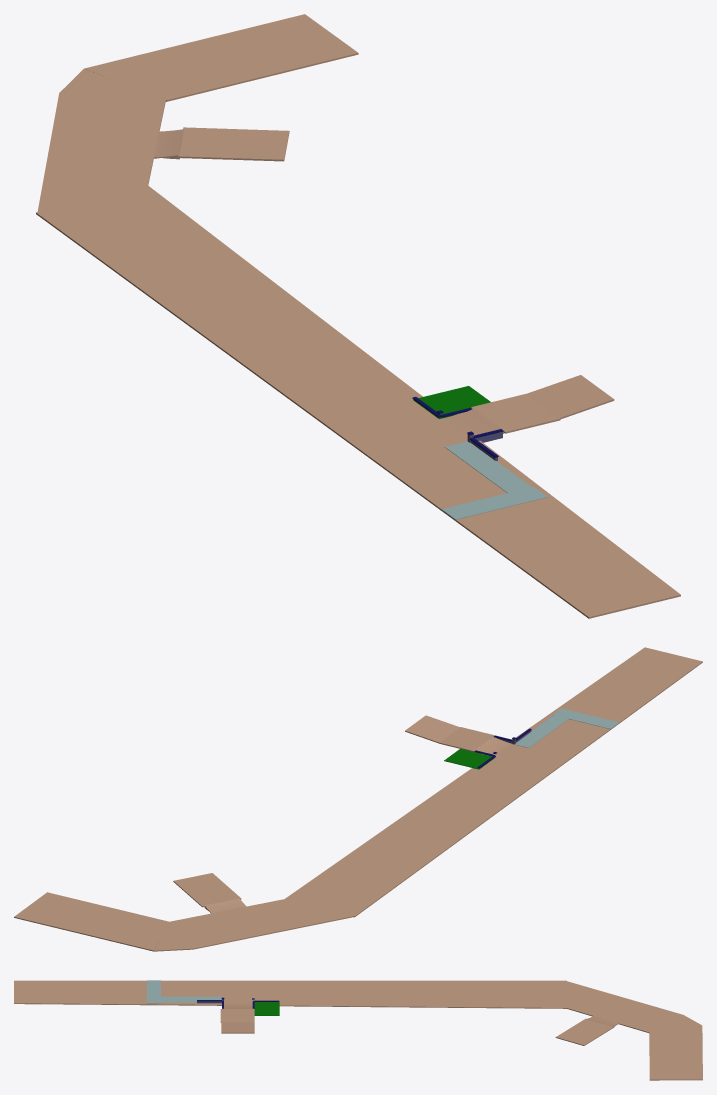
The model's file is RoadBlockout.FBX.
The picture shows the model from 3 angles, top to bottom: view 1: azimuth 30°, elevation 25°; view 2: azimuth 150°, elevation 25°; view 3: azimuth 270°, elevation 25°; orthographic projection. The views are drawn at different scales.
Parts seen in each view (by area): view 1: Box791, Box1912, Box1910, Box2003, Box544, Box641, Box219, Box220, Box210; view 2: Box791, Box1912, Box1910, Box2003, Box544, Box641, Box219, Box210, Box220; view 3: Box791, Box1912, Box1910, Box2003, Box641, Box544, Box210, Box219, Box220.
Boxes of the visible parts, bbox=[...] form: Box791: bbox=[36, 185, 680, 618]; Box1912: bbox=[37, 69, 165, 211]; Box1910: bbox=[84, 14, 358, 101]; Box2003: bbox=[178, 127, 289, 161]; Box544: bbox=[526, 375, 614, 418]; Box641: bbox=[471, 394, 560, 433]; Box219: bbox=[445, 441, 531, 492]; Box220: bbox=[441, 487, 547, 520]; Box210: bbox=[413, 386, 490, 418]; Box791: bbox=[284, 647, 702, 917]; Box1912: bbox=[154, 899, 353, 951]; Box1910: bbox=[14, 892, 168, 951]; Box2003: bbox=[173, 873, 241, 907]; Box544: bbox=[405, 715, 459, 743]; Box641: bbox=[439, 727, 494, 751]; Box219: bbox=[514, 715, 568, 747]; Box210: bbox=[444, 749, 495, 769]; Box220: bbox=[553, 708, 619, 729]; Box791: bbox=[14, 980, 566, 1008]; Box1912: bbox=[566, 981, 701, 1032]; Box1910: bbox=[649, 1025, 702, 1080]; Box2003: bbox=[555, 1018, 614, 1045]; Box641: bbox=[220, 1009, 254, 1022]; Box544: bbox=[221, 1022, 254, 1033]; Box210: bbox=[254, 1002, 279, 1015]; Box219: bbox=[161, 996, 223, 1002]; Box220: bbox=[147, 980, 160, 1003].
Size of the model in its own units: 1302 by 73.07 by 3830.
